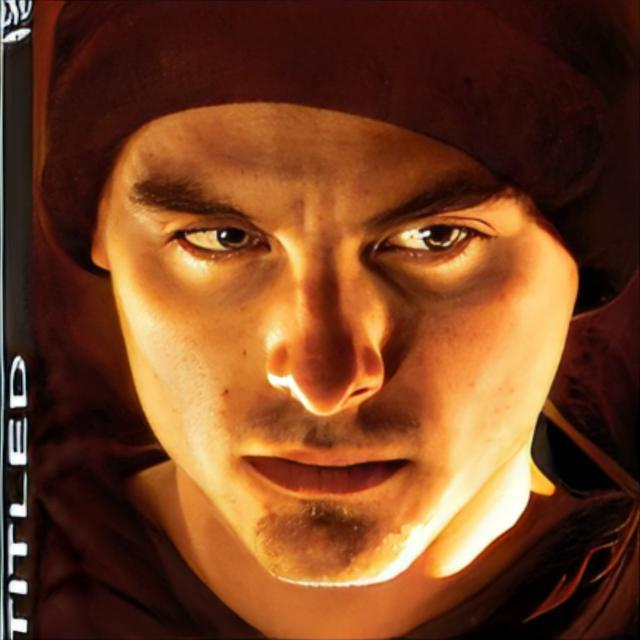anger: (115, 41, 560, 583)
